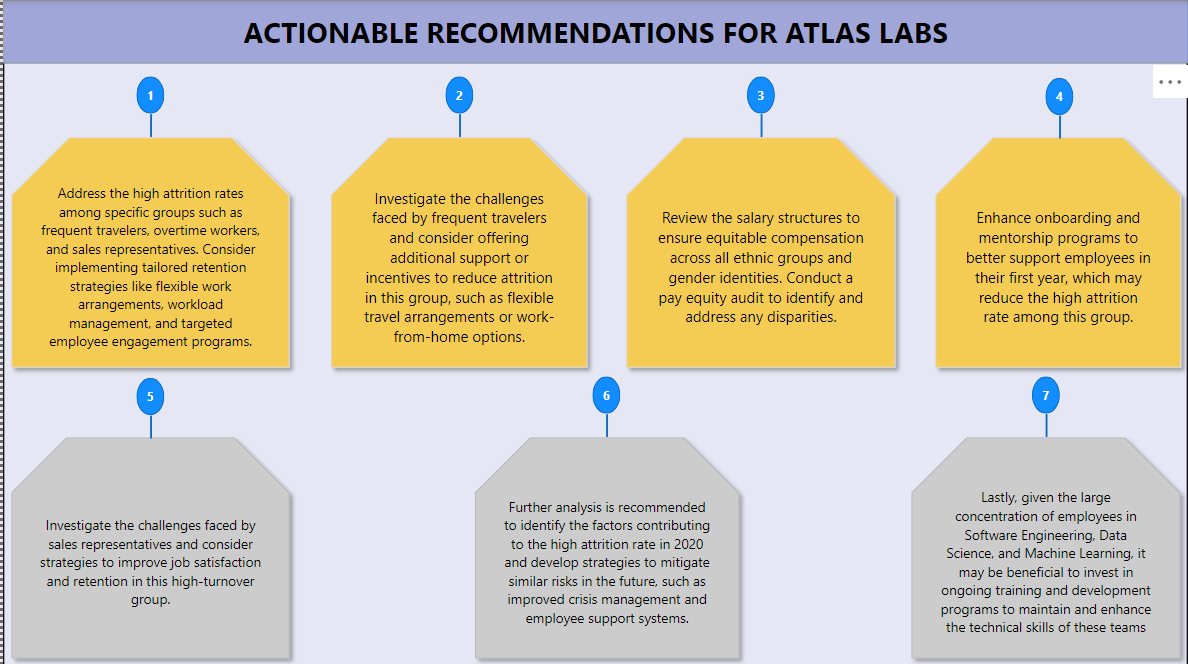

What the dashboard file says about the page in this screenshot:
{"tool":"powerbi","page":{"name":"Recommendations","canvas":[1280,720],"ordinal":5},"visuals":[{"type":"shape","box":[145,83.3,30,40],"z":0,"group":"g3"},{"type":"shape","box":[478.3,83.3,30,40],"z":0,"group":"g2"},{"type":"shape","box":[803.3,83.3,30,40],"z":0,"group":"g1"},{"type":"shape","box":[1126.7,85,30,40],"z":0,"group":"g4"},{"type":"shape","box":[0,140,318.3,266.7],"z":0},{"type":"shape","box":[636.7,406.7,30,40],"z":0,"group":"g6"},{"type":"shape","box":[1111.7,406.7,30,40],"z":0,"group":"g7"},{"type":"shape","box":[145,408.3,30,40],"z":0,"group":"g5"},{"type":"shape","box":[120,123.3,80,25],"z":1000,"group":"g3"},{"type":"shape","box":[453.3,123.3,80,25],"z":1000,"group":"g2"},{"type":"shape","box":[778.3,123.3,80,25],"z":1000,"group":"g1"},{"type":"shape","box":[1101.7,125,80,25],"z":1000,"group":"g4"},{"type":"shape","box":[345,140,295,266.7],"z":1000},{"type":"shape","box":[611.7,446.7,80,25],"z":1000,"group":"g6"},{"type":"shape","box":[1086.7,446.7,80,25],"z":1000,"group":"g7"},{"type":"shape","box":[120,448.3,80,25],"z":1000,"group":"g5"},{"type":"shape","box":[663.3,140,308.3,266.7],"z":2000},{"type":"shape","box":[996.7,140,283.3,266.7],"z":3000},{"type":"shape","box":[0,463.3,318.3,256.7],"z":4000},{"type":"shape","box":[500,463.3,303.3,256.7],"z":5000},{"type":"shape","box":[971.7,463.3,308.3,256.7],"z":6000},{"type":"group","id":"g1","title":"Group 1","box":[778.3,83.3,80,65],"z":7000},{"type":"group","id":"g2","title":"Group 1","box":[453.3,83.3,80,65],"z":8000},{"type":"group","id":"g3","title":"Group 1","box":[120,83.3,80,65],"z":9000},{"type":"group","id":"g4","title":"Group 1","box":[1101.7,85,80,65],"z":10000},{"type":"group","id":"g5","title":"Group 1","box":[120,408.3,80,65],"z":11000},{"type":"group","id":"g6","title":"Group 1","box":[611.7,406.7,80,65],"z":12000},{"type":"group","id":"g7","title":"Group 1","box":[1086.7,406.7,80,65],"z":13000},{"type":"shape","box":[0,0,1280,68.3],"z":14000}]}

Visuals, with their boxes in screenshot pixels (x1, y1, x2, y2), scaled from the page's 1280x720 canvas onto the 1188x664 screenshot:
shape: 135/77/162/114
shape: 444/77/472/114
shape: 746/77/773/114
shape: 1046/78/1074/115
shape: 0/129/295/375
shape: 591/375/619/412
shape: 1032/375/1060/412
shape: 135/377/162/413
shape: 111/114/186/137
shape: 421/114/495/137
shape: 722/114/797/137
shape: 1023/115/1097/138
shape: 320/129/594/375
shape: 568/412/642/435
shape: 1009/412/1083/435
shape: 111/413/186/436
shape: 616/129/902/375
shape: 925/129/1187/375
shape: 0/427/295/663
shape: 464/427/746/663
shape: 902/427/1187/663
"Group 1" group: 722/77/797/137
"Group 1" group: 421/77/495/137
"Group 1" group: 111/77/186/137
"Group 1" group: 1023/78/1097/138
"Group 1" group: 111/377/186/436
"Group 1" group: 568/375/642/435
"Group 1" group: 1009/375/1083/435
shape: 0/0/1187/63
